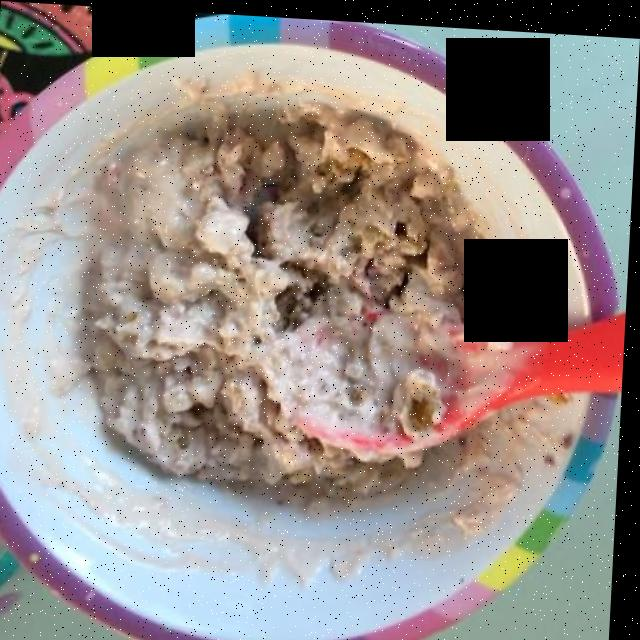muesli: (89, 96, 504, 481)
yaourt-yahourt-yogourt-ou-yoghourt-natural: (57, 100, 529, 562)
